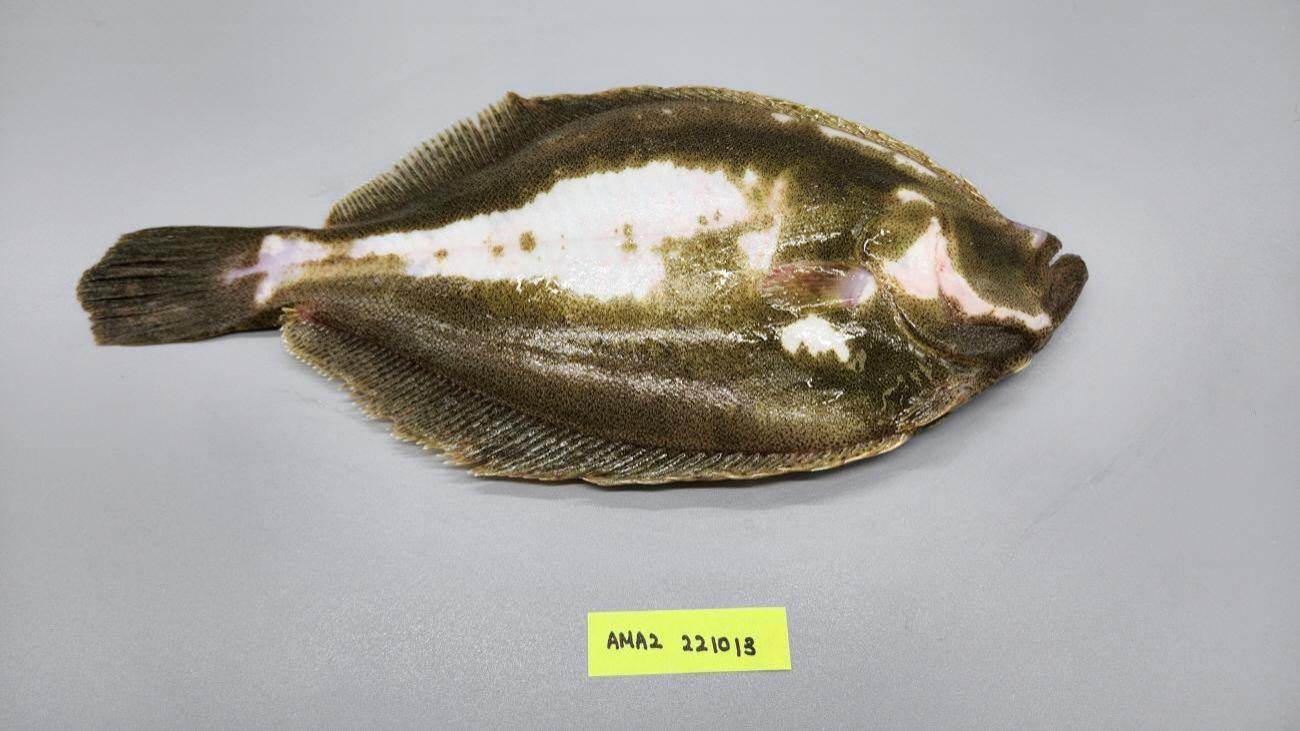MAFCH: (72, 273, 179, 341)
MAOUY: (75, 87, 1090, 490)
